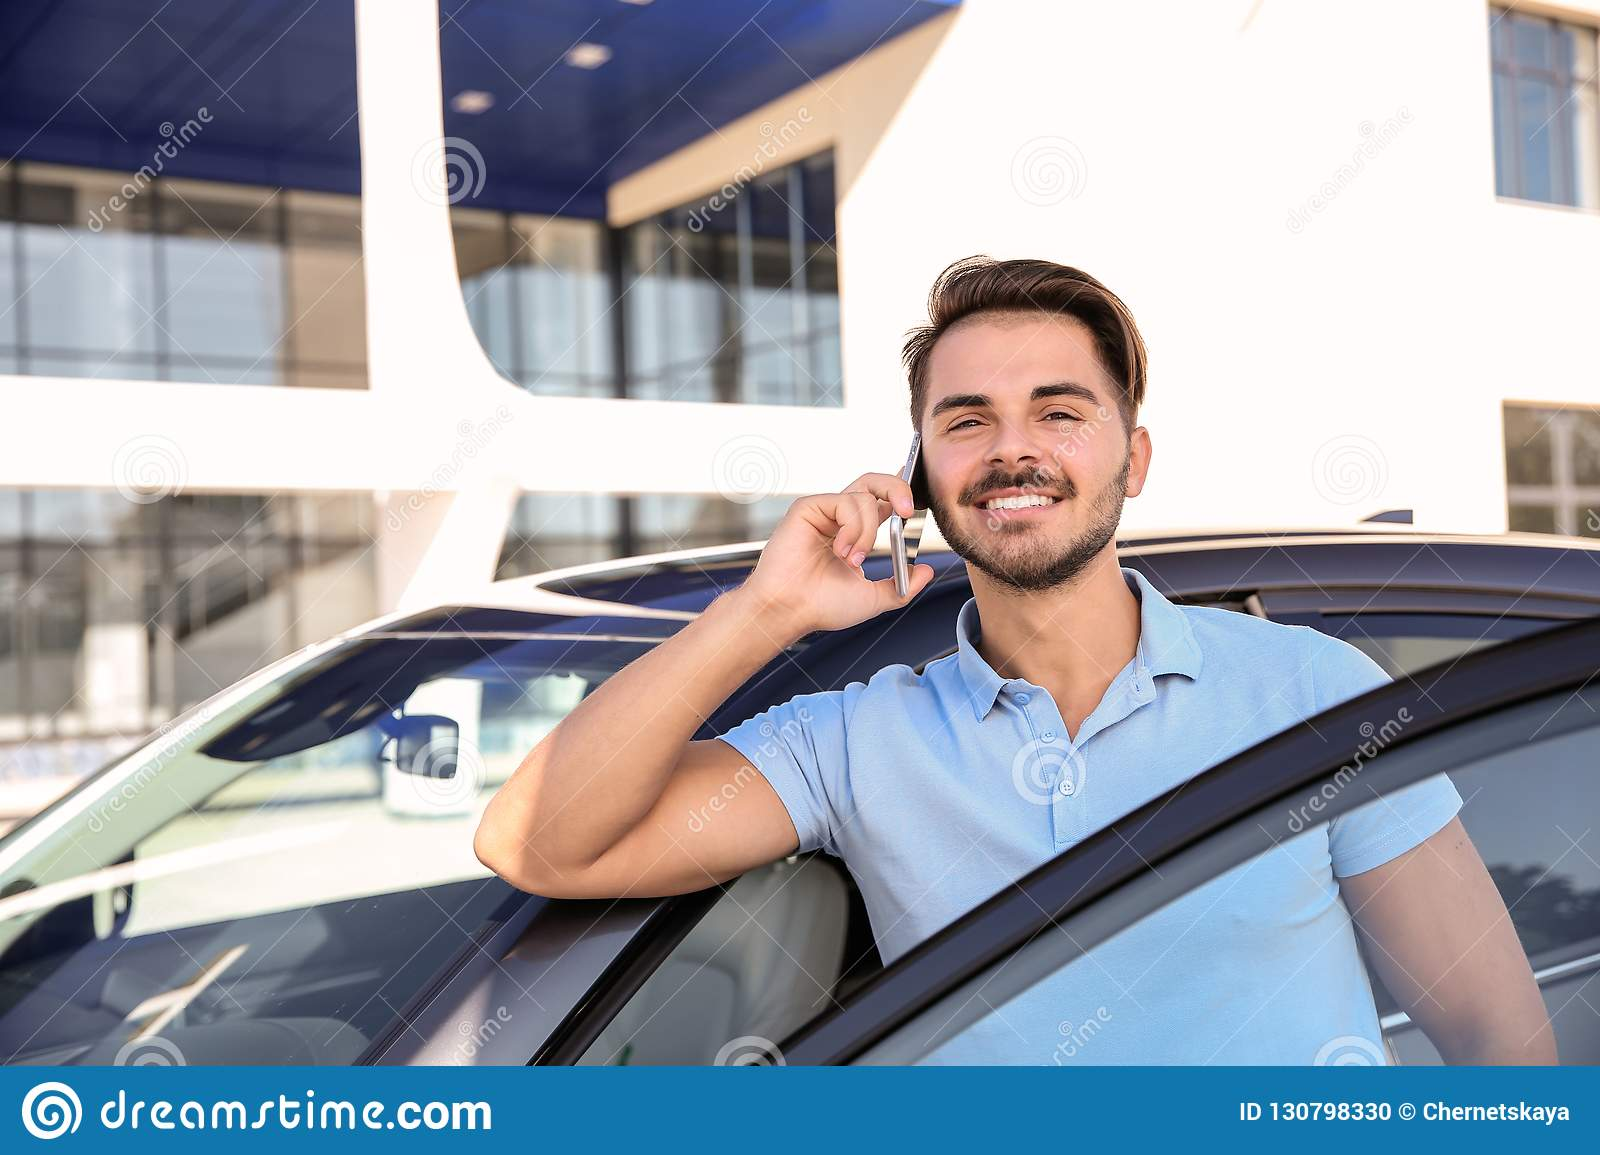phone: (887, 426, 929, 604)
talk: (761, 378, 1119, 622)
